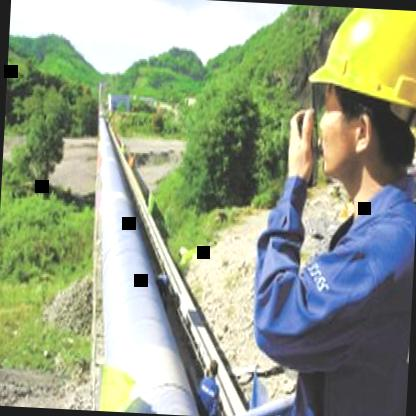helmet: (298, 5, 416, 189)
